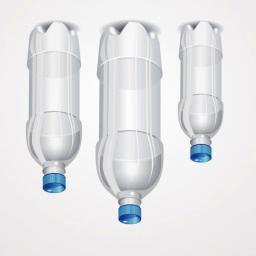plastic: (96, 21, 163, 225), (27, 22, 82, 193), (180, 21, 223, 163)
